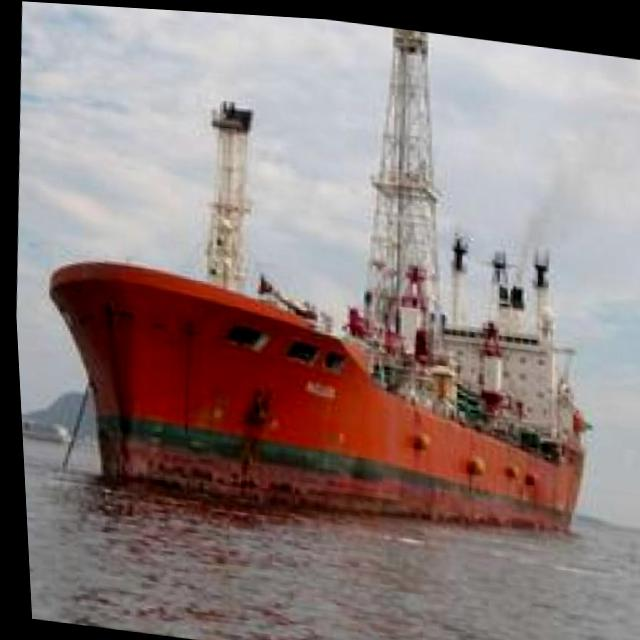ship2: (46, 22, 586, 529)
